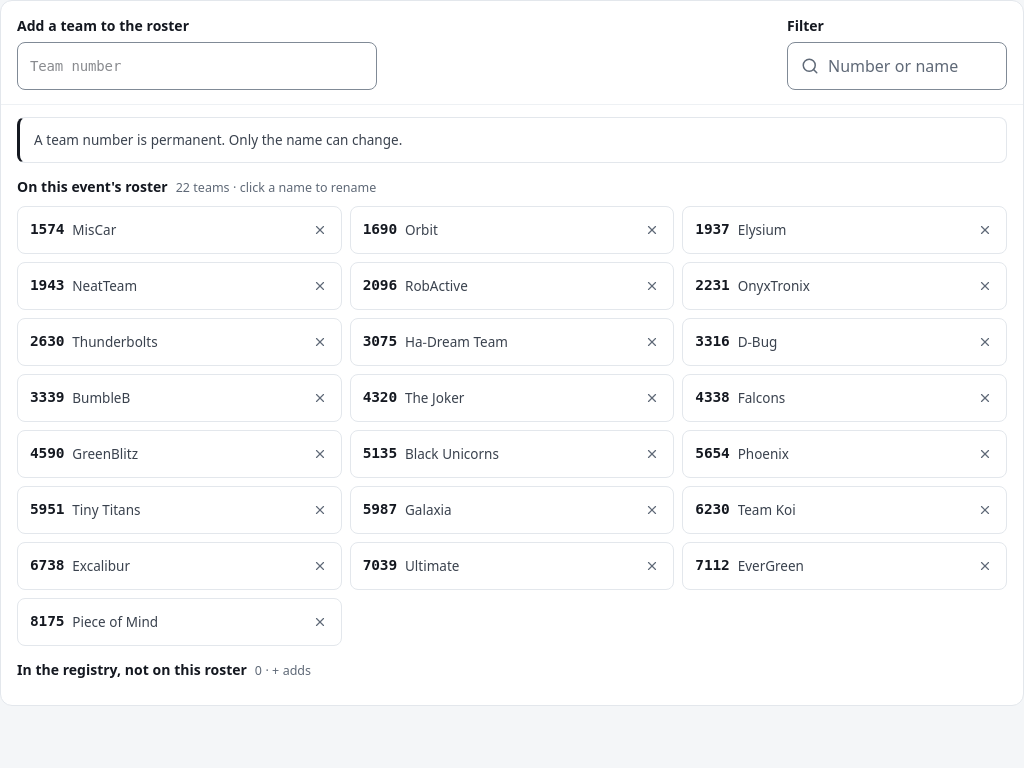
RosterPanel › adds an unknown team in one step: create, then roster
Type "9036" into the dropdown labelled "Add a team to the roster" at (197, 66), box [17,42,377,90]
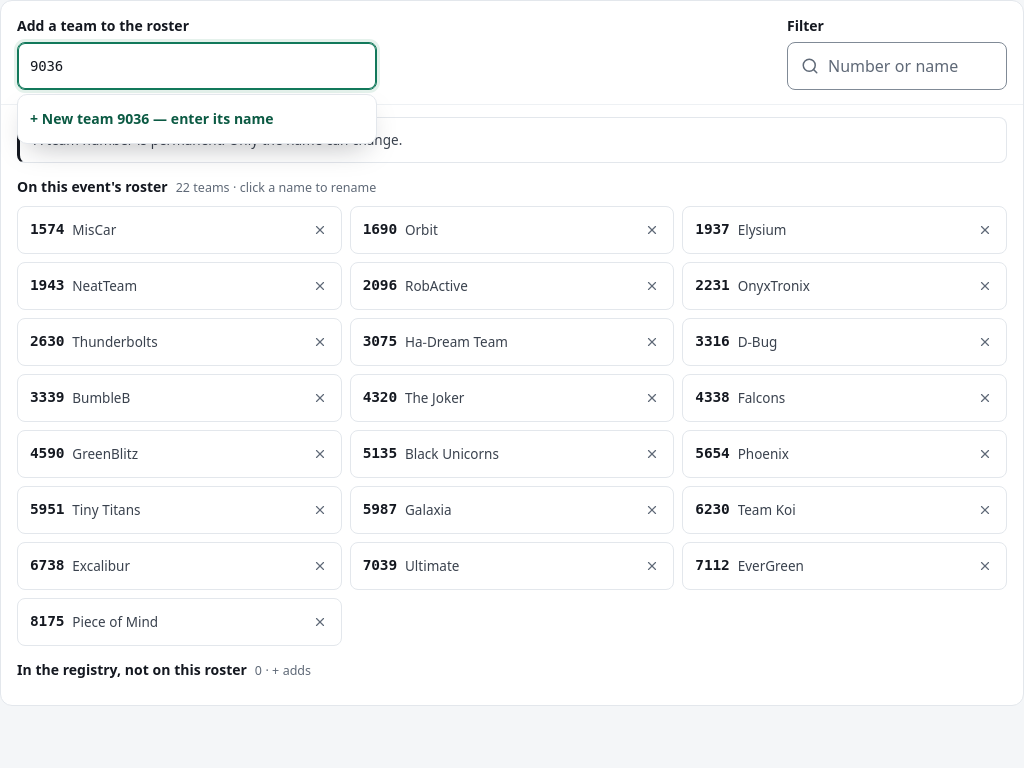
Click the option "+ New team 9036 — enter its name" at (152, 118), box [30,109,274,128]
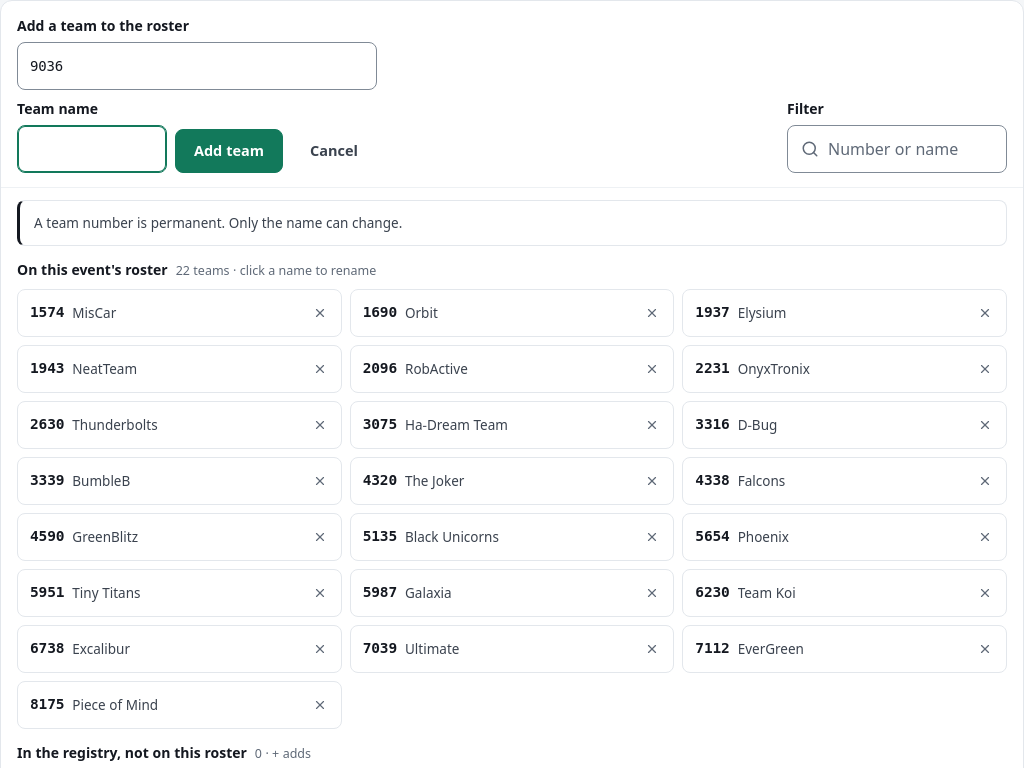
Type "Cyber Owls" into the field labelled "Team name" at (92, 149), box [17,125,167,173]
Then press Enter
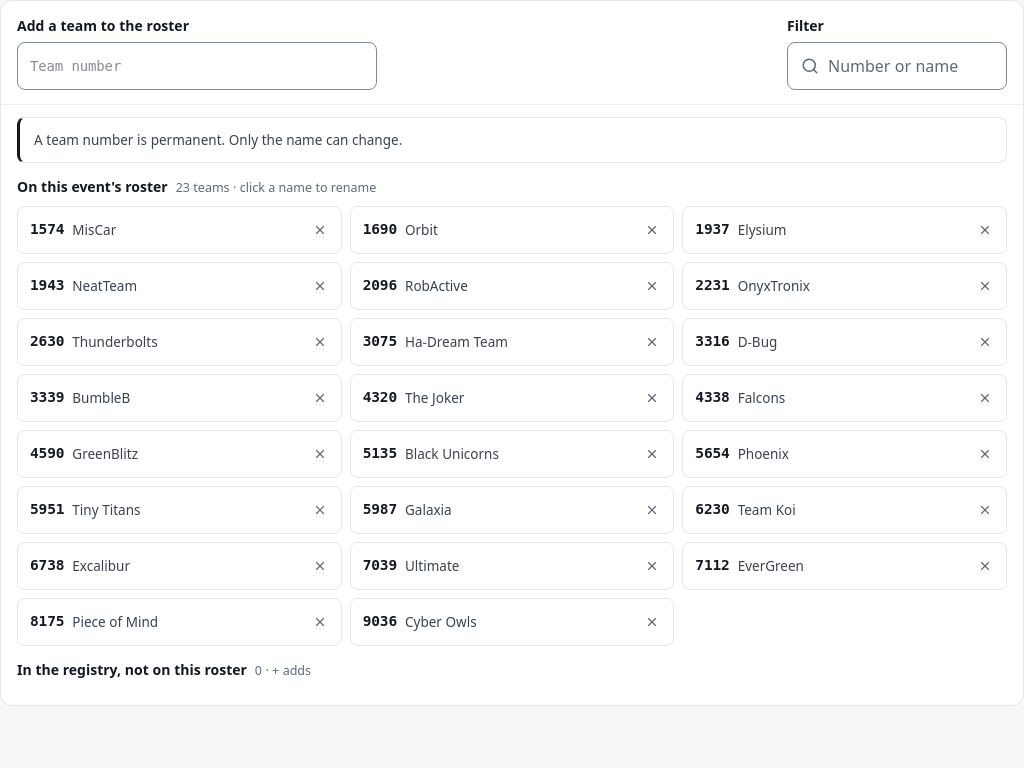
Expected: the button "Cyber Owls" is shown, [405,598,629,646]
